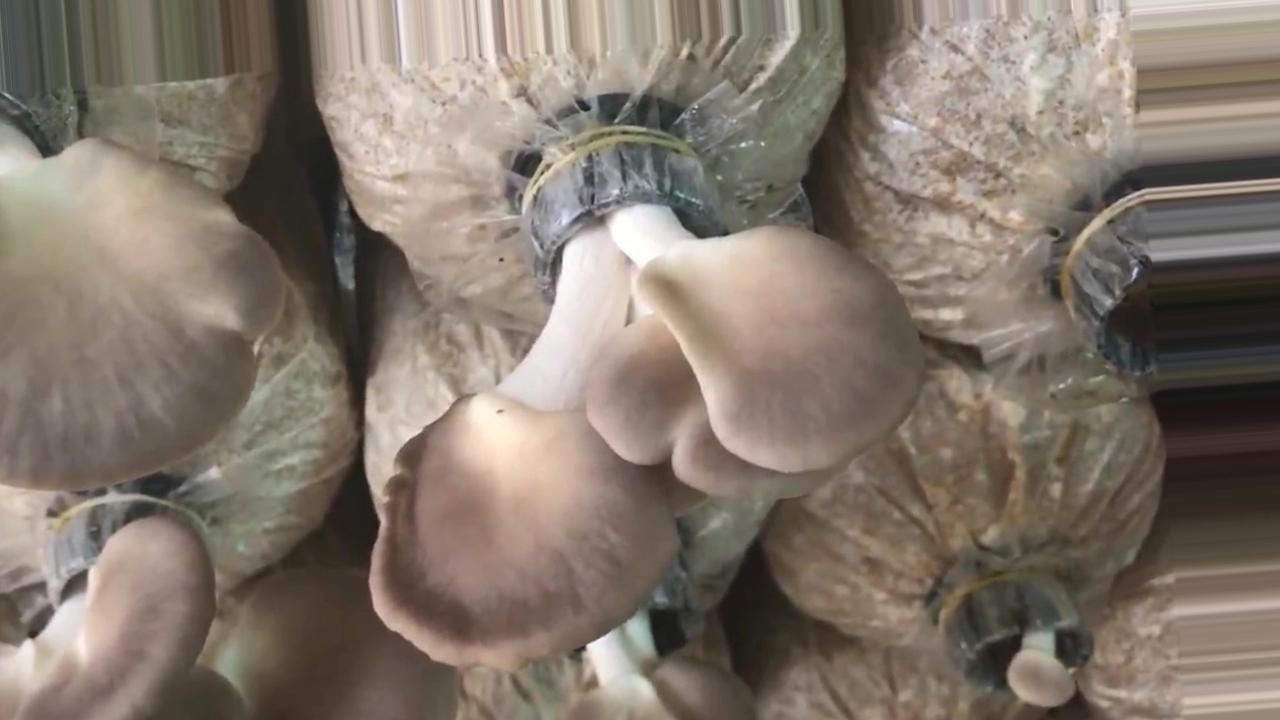nam: (370, 130, 920, 663), (1, 109, 285, 489), (1, 495, 459, 719), (565, 530, 756, 720), (942, 563, 1099, 703)
